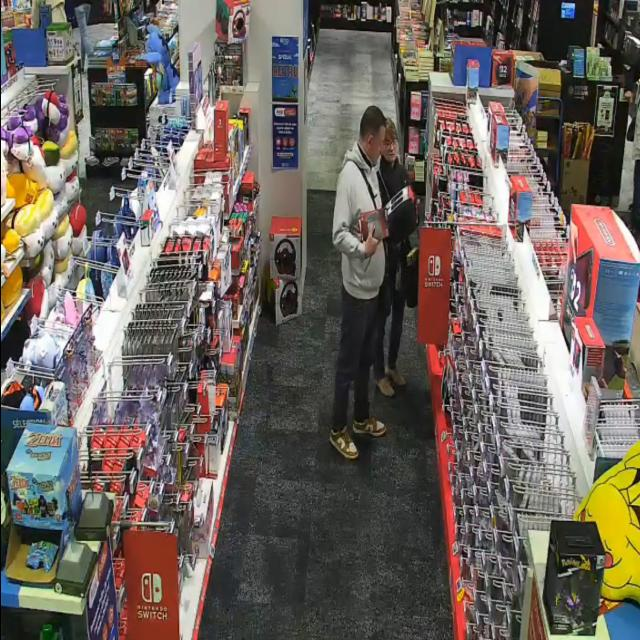article: (385, 185, 420, 244), (359, 208, 390, 242)
bags: (401, 248, 419, 308)
hands: (364, 225, 379, 256)
person: (330, 106, 385, 459), (374, 201, 416, 397)
